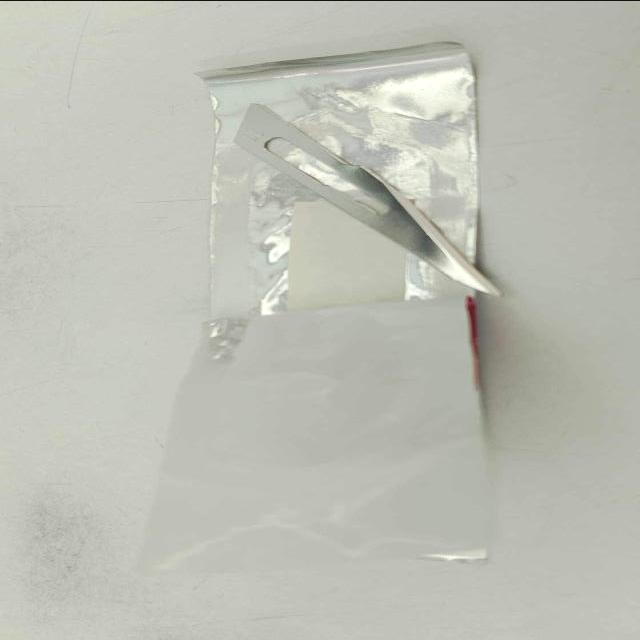General: (135, 40, 498, 579)
Sharps: (231, 102, 503, 298)
